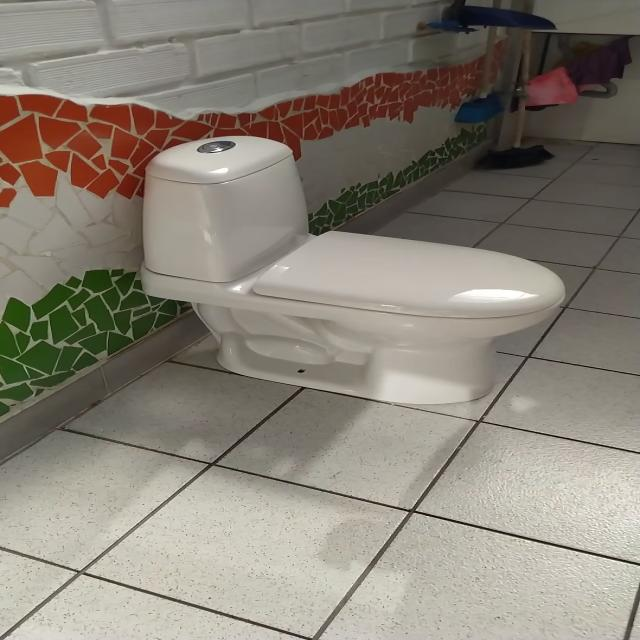toilet: (138, 135, 565, 405)
